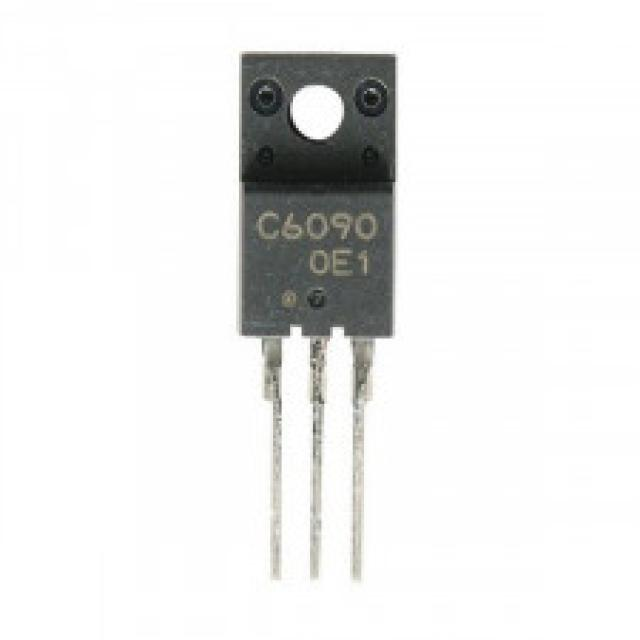Transistor: (236, 53, 398, 584)
